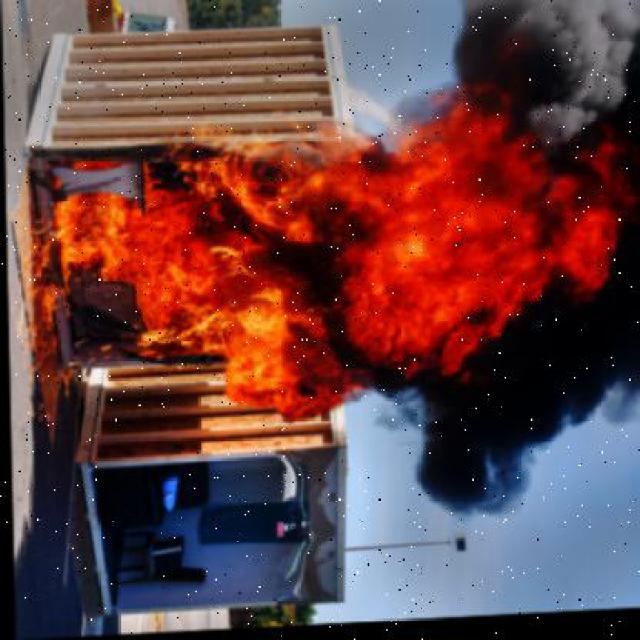fire: (30, 121, 619, 421)
